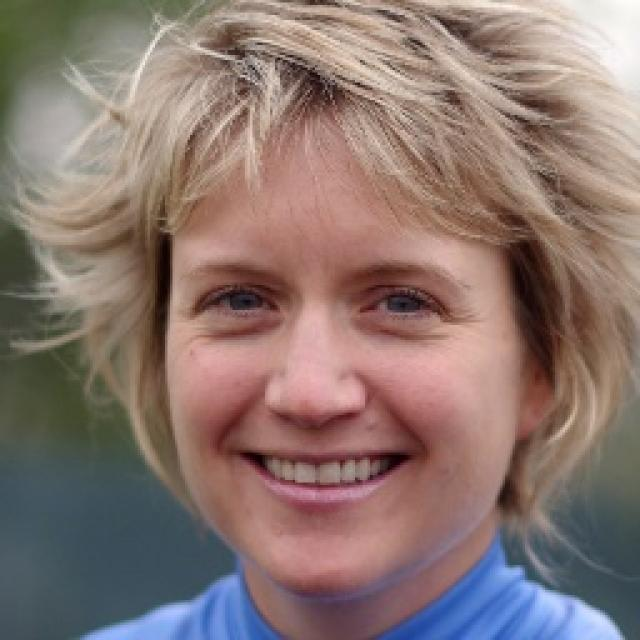earlobe: (519, 388, 554, 443)
eye: (359, 289, 447, 321), (196, 286, 280, 316)
nose: (264, 400, 368, 445)
wholeear: (515, 339, 565, 442)
